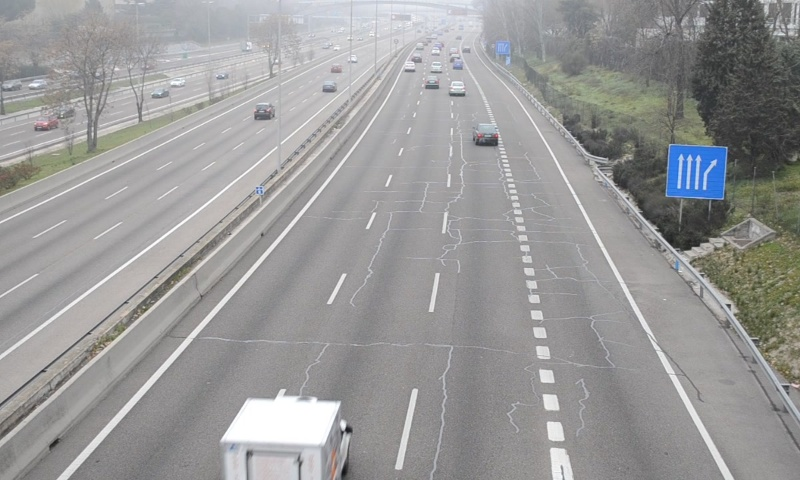car: (472, 122, 498, 146)
small-truck: (221, 397, 348, 480)
